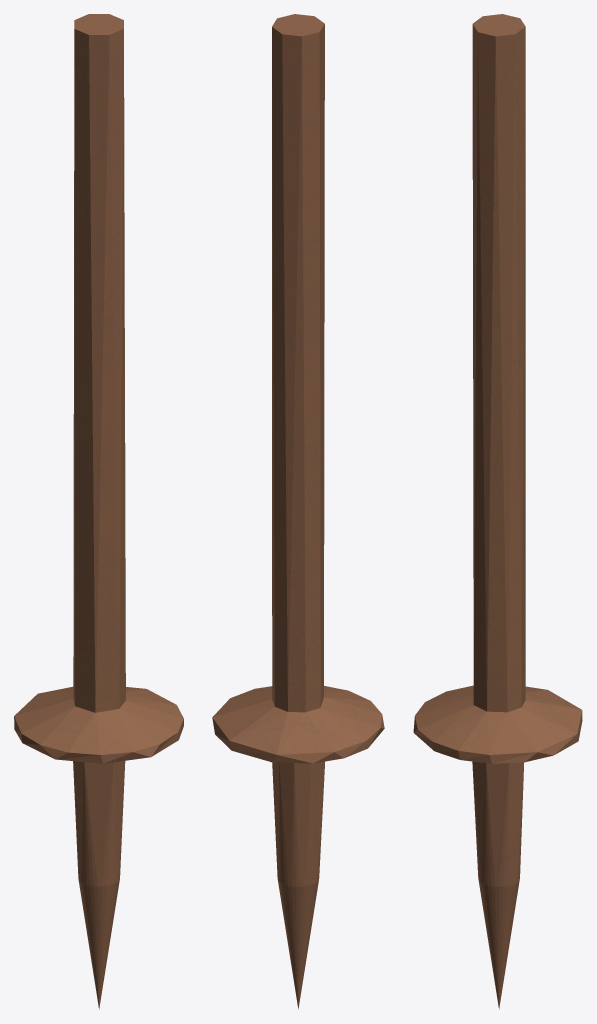
The model's file is needle.glb.
The picture shows the model from 3 angles, left to right: view 1: azimuth 30°, elevation 25°; view 2: azimuth 150°, elevation 25°; view 3: azimuth 270°, elevation 25°; orthographic projection.
Parts seen in each view (by area): view 1: Cylinder.104; view 2: Cylinder.104; view 3: Cylinder.104.
Boxes of the visible parts, x1=… form: Cylinder.104: x1=14, y1=14, x2=183, y2=1009; Cylinder.104: x1=212, y1=14, x2=384, y2=1009; Cylinder.104: x1=413, y1=14, x2=582, y2=1009.
Size of the model in its own units: 0.02 by 0.1289 by 0.0201.
1 material, 1 textured.
